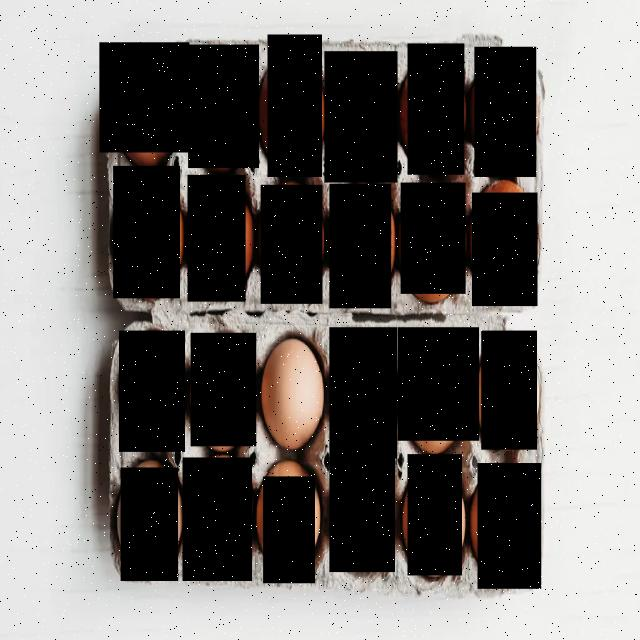Egg: (100, 42, 190, 153), (324, 52, 398, 184), (398, 328, 478, 442), (329, 328, 397, 460), (113, 166, 180, 298), (260, 328, 321, 472), (188, 45, 259, 168), (183, 458, 252, 581), (478, 463, 542, 589), (474, 48, 536, 178), (119, 332, 185, 452), (330, 185, 392, 309), (268, 35, 322, 177), (330, 456, 395, 572), (191, 333, 257, 447), (473, 193, 538, 307), (408, 44, 464, 176), (260, 185, 322, 304), (400, 184, 466, 295), (188, 176, 245, 303), (481, 332, 537, 451), (408, 454, 462, 576), (121, 468, 179, 581), (263, 476, 315, 584)
